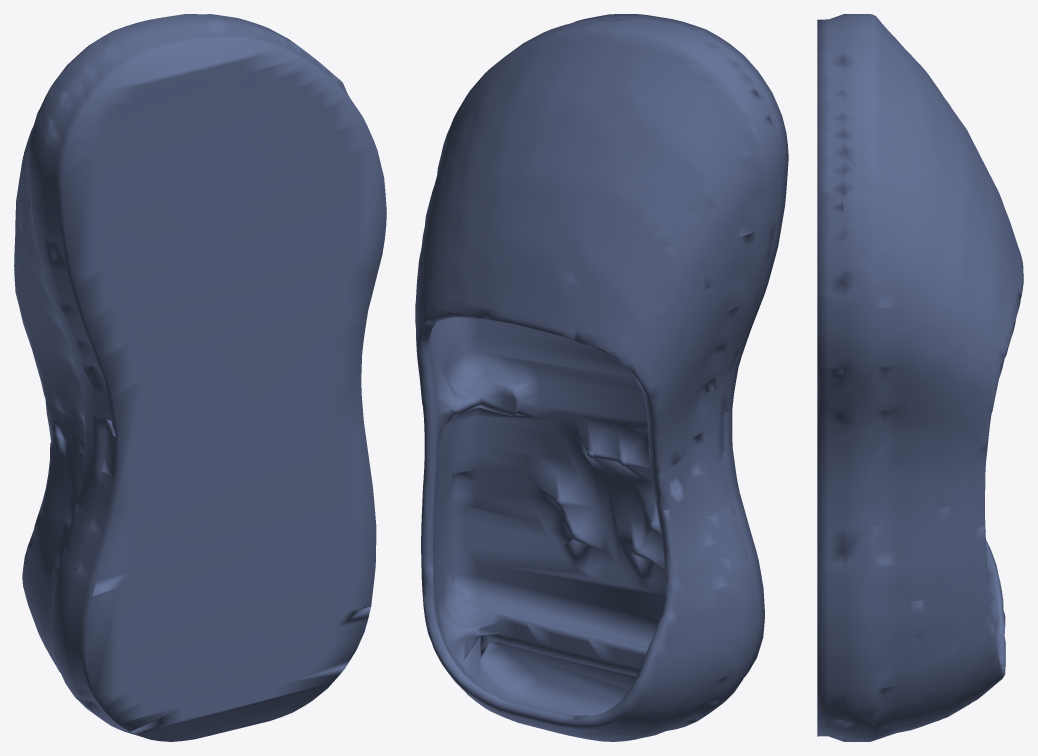
Rendered from icub_l_foot.glb.
The picture shows the model from 3 angles, left to right: view 1: azimuth 30°, elevation 25°; view 2: azimuth 150°, elevation 25°; view 3: azimuth 270°, elevation 25°; orthographic projection. The views are drawn at different scales.
Parts seen in each view (by area): view 1: Sim_Sea_2-5_L_Sole_Prt-Binary; view 2: Sim_Sea_2-5_L_Sole_Prt-Binary; view 3: Sim_Sea_2-5_L_Sole_Prt-Binary.
Boxes of the visible parts, x1=… form: Sim_Sea_2-5_L_Sole_Prt-Binary: x1=14, y1=14, x2=386, y2=741; Sim_Sea_2-5_L_Sole_Prt-Binary: x1=415, y1=14, x2=788, y2=741; Sim_Sea_2-5_L_Sole_Prt-Binary: x1=817, y1=14, x2=1023, y2=741.
Size of the model in its own units: 0.0979 by 0.1989 by 0.0561.
